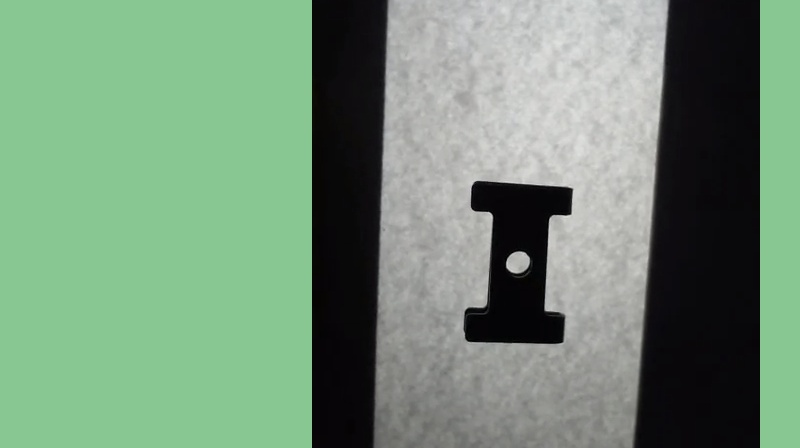O002: (456, 176, 579, 347)
